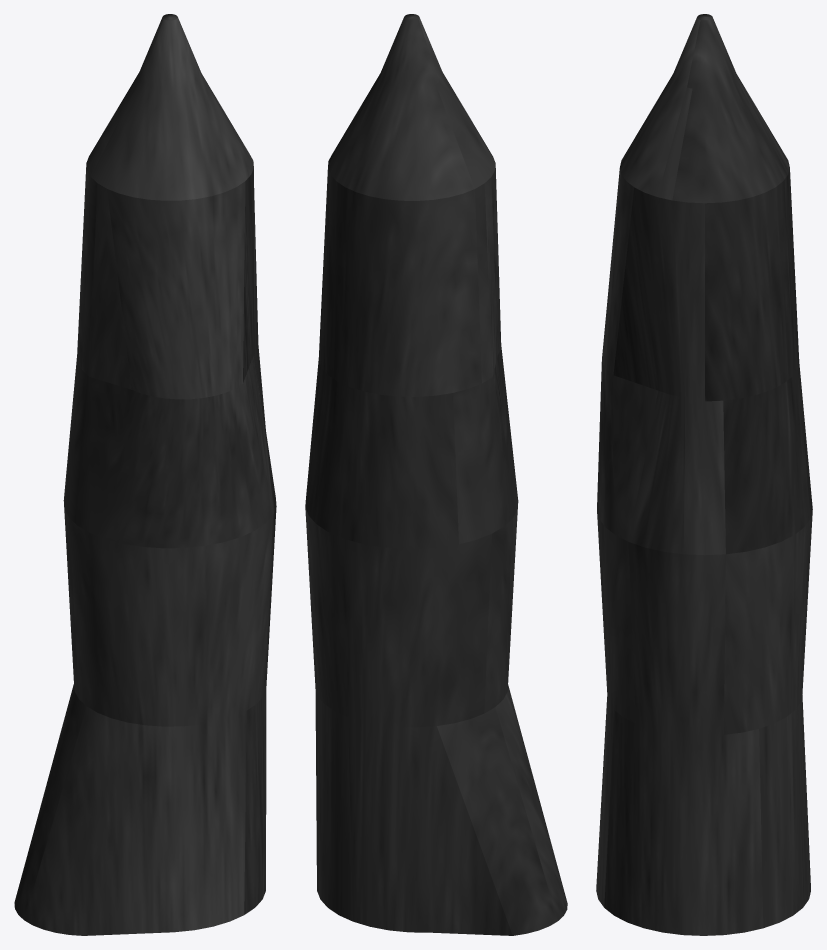
Rendered from HellPillarTall.fbx.
3 renders of one model, left to right at view 1: azimuth 30°, elevation 25°; view 2: azimuth 150°, elevation 25°; view 3: azimuth 270°, elevation 25°, orthographic.
Parts seen in each view (by area): view 1: Cylinder.001; view 2: Cylinder.001; view 3: Cylinder.001.
Boxes of the visible parts, bbox=[...] form: Cylinder.001: bbox=[14, 14, 276, 935]; Cylinder.001: bbox=[305, 14, 567, 935]; Cylinder.001: bbox=[596, 14, 812, 935].
Bounding box in the file's own units: 119 × 413 × 92.28.
